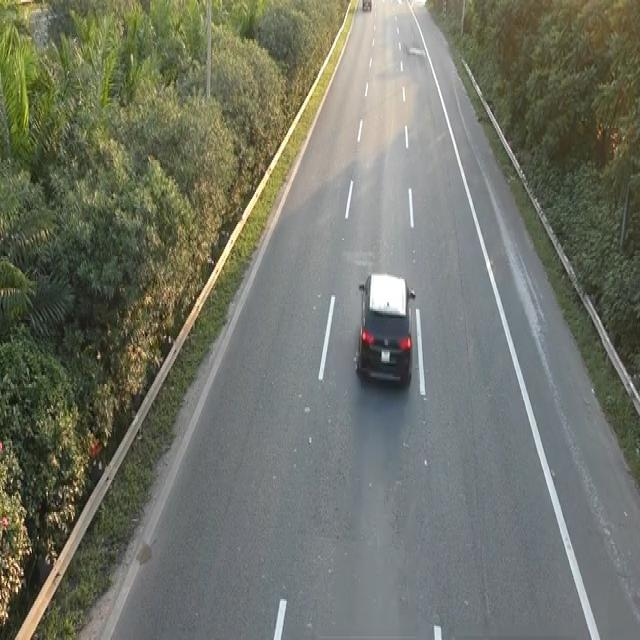car: (352, 267, 416, 389)
